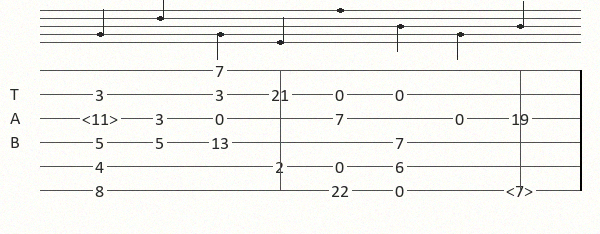0: (215, 111, 228, 126), (335, 87, 348, 102), (335, 159, 348, 174), (395, 87, 408, 102), (395, 183, 408, 198), (455, 111, 468, 126)
13: (211, 135, 233, 150)
19: (511, 111, 533, 126)
2: (275, 159, 288, 174)
21: (271, 87, 293, 102)
22: (331, 183, 353, 198)
3: (95, 87, 108, 102), (155, 111, 168, 126), (215, 87, 228, 102)
4: (95, 159, 108, 174)
5: (95, 135, 108, 150), (155, 135, 168, 150)
6: (395, 159, 408, 174)
7: (215, 63, 228, 78), (335, 111, 348, 126), (395, 135, 408, 150)
8: (95, 183, 108, 198)
harmonic: (82, 111, 122, 126), (506, 183, 537, 198)
